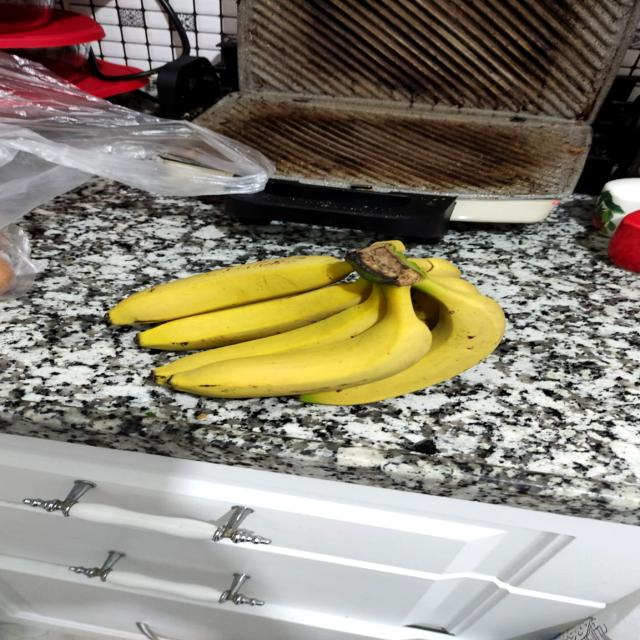banana: (98, 242, 522, 416), (157, 271, 435, 400)
